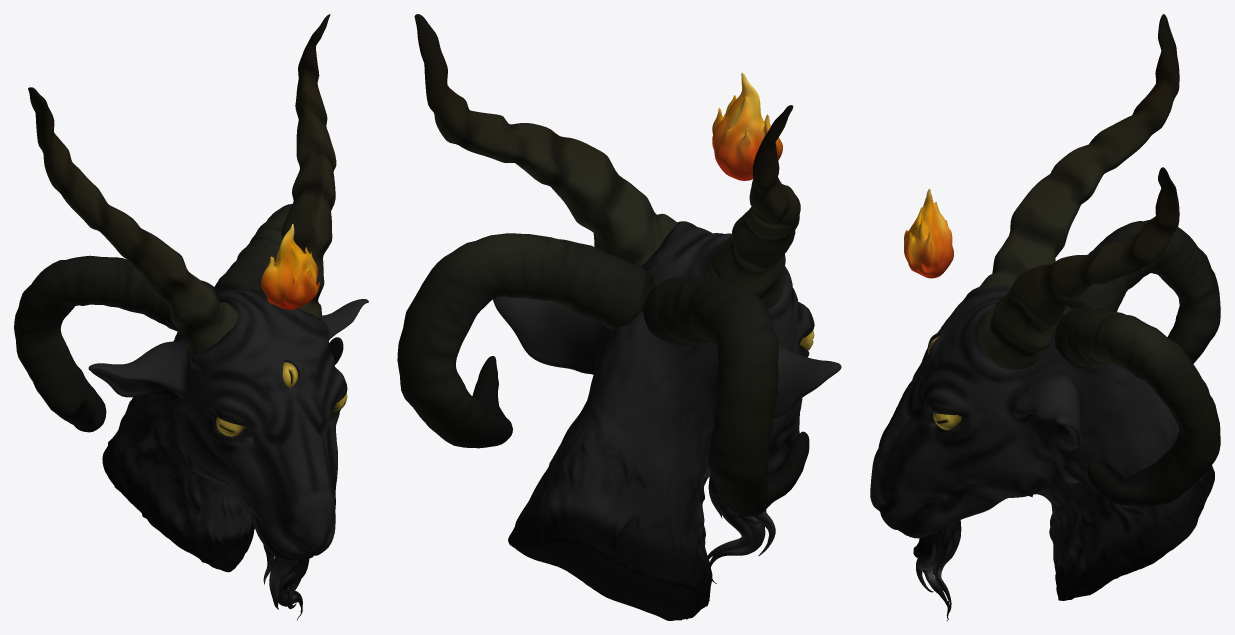
The model's file is baphomet_head.glb.
3 renders of one model, left to right at view 1: azimuth 30°, elevation 25°; view 2: azimuth 150°, elevation 25°; view 3: azimuth 270°, elevation 25°, orthographic. The views are drawn at different scales.
Parts seen in each view (by area): view 1: Bapho_Head, Horns_1, Horns_2, Flame, Goatee, Eyes; view 2: Bapho_Head, Horns_2, Horns_1, Flame, Goatee; view 3: Bapho_Head, Horns_1, Horns_2, Flame, Goatee.
Part boxes in pixels (x1=…): Bapho_Head: x1=88, y1=289, x2=368, y2=582; Horns_1: x1=28, y1=14, x2=336, y2=355; Horns_2: x1=14, y1=204, x2=343, y2=432; Flame: x1=261, y1=224, x2=319, y2=309; Goatee: x1=263, y1=544, x2=309, y2=620; Eyes: x1=216, y1=362, x2=347, y2=436; Bapho_Head: x1=493, y1=221, x2=841, y2=620; Horns_2: x1=397, y1=233, x2=809, y2=516; Horns_1: x1=414, y1=14, x2=800, y2=309; Flame: x1=712, y1=72, x2=782, y2=180; Goatee: x1=708, y1=476, x2=775, y2=583; Bapho_Head: x1=870, y1=285, x2=1214, y2=600; Horns_1: x1=978, y1=14, x2=1179, y2=369; Horns_2: x1=1054, y1=220, x2=1220, y2=505; Flame: x1=904, y1=188, x2=953, y2=278; Goatee: x1=913, y1=520, x2=961, y2=620.
Bounding box in the file's own units: 1.15 × 1.82 × 1.1.
Materials: 6 (6 with a texture image).
